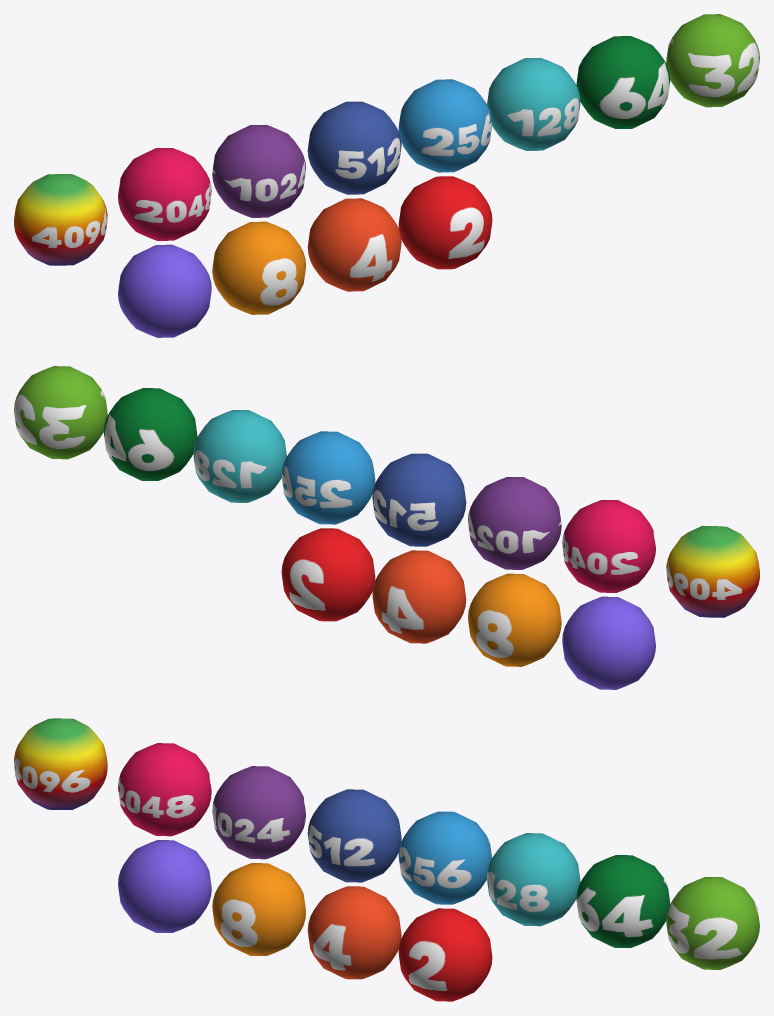
The model's file is balls .fbx.
3 renders of one model, top to bottom at view 1: azimuth 30°, elevation 25°; view 2: azimuth 150°, elevation 25°; view 3: azimuth 330°, elevation 25°, orthographic.
Visible parts, largest first — view 1: Torus.006, Torus.013, Torus.002, Torus.014, Torus.012, Torus.007, Torus.004, Torus.011, Torus.005, Torus.010, Torus.009, Torus.008; view 2: Torus.006, Torus.013, Torus.014, Torus.012, Torus.007, Torus.002, Torus.004, Torus.011, Torus.005, Torus.010, Torus.009, Torus.008; view 3: Torus.002, Torus.006, Torus.013, Torus.014, Torus.005, Torus.010, Torus.011, Torus.004, Torus.012, Torus.009, Torus.008, Torus.007.
Boxes of the visible parts, box(x1,y1,x2,y2) form: Torus.006: box(307, 101, 401, 194); Torus.013: box(307, 198, 401, 291); Torus.002: box(14, 174, 107, 265); Torus.014: box(398, 176, 492, 269); Torus.012: box(212, 221, 305, 314); Torus.007: box(398, 79, 492, 172); Torus.004: box(118, 148, 211, 240); Torus.011: box(118, 244, 211, 337); Torus.005: box(212, 125, 305, 217); Torus.010: box(666, 14, 759, 107); Torus.009: box(576, 36, 670, 128); Torus.008: box(487, 58, 580, 150); Torus.006: box(372, 453, 466, 546); Torus.013: box(372, 550, 466, 643); Torus.014: box(281, 528, 375, 621); Torus.012: box(468, 573, 561, 666); Torus.007: box(281, 431, 375, 524); Torus.002: box(666, 525, 759, 617); Torus.004: box(562, 500, 655, 592); Torus.011: box(562, 596, 655, 689); Torus.005: box(468, 477, 561, 569); Torus.010: box(14, 366, 107, 459); Torus.009: box(103, 388, 197, 480); Torus.008: box(193, 410, 286, 502); Torus.002: box(14, 718, 107, 809); Torus.006: box(307, 789, 401, 882); Torus.013: box(307, 886, 401, 979); Torus.014: box(398, 908, 492, 1001); Torus.005: box(212, 766, 305, 859); Torus.010: box(666, 877, 759, 969); Torus.011: box(118, 840, 211, 932); Torus.004: box(118, 743, 211, 836); Torus.012: box(212, 863, 305, 955); Torus.009: box(576, 855, 670, 947); Torus.008: box(486, 833, 580, 926); Torus.007: box(398, 811, 491, 904).
Size of the model in its own units: 4.71 by 1.12 by 0.5263.
